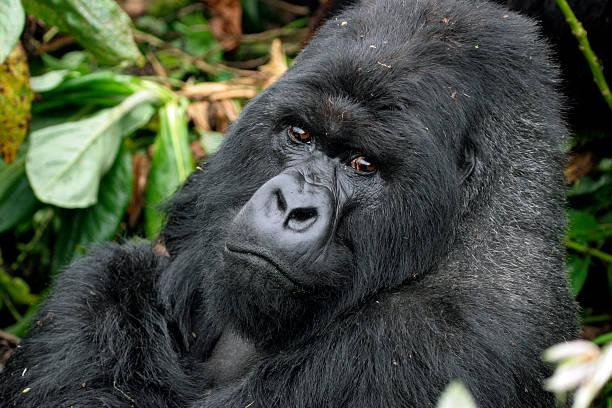goriile_montagne: (57, 0, 597, 408)
